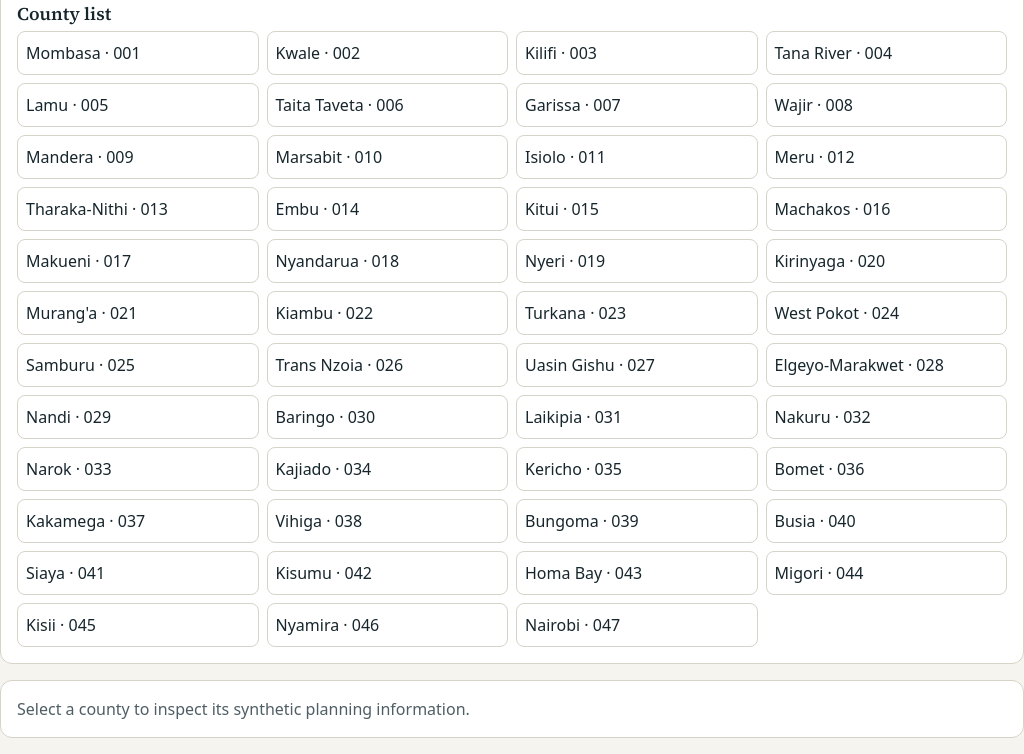
Test: selects a county and identifies planning-only access
(page scrolled)
Click the button "Nairobi · 047": (637, 625) [516, 603, 758, 647]
(page scrolled)
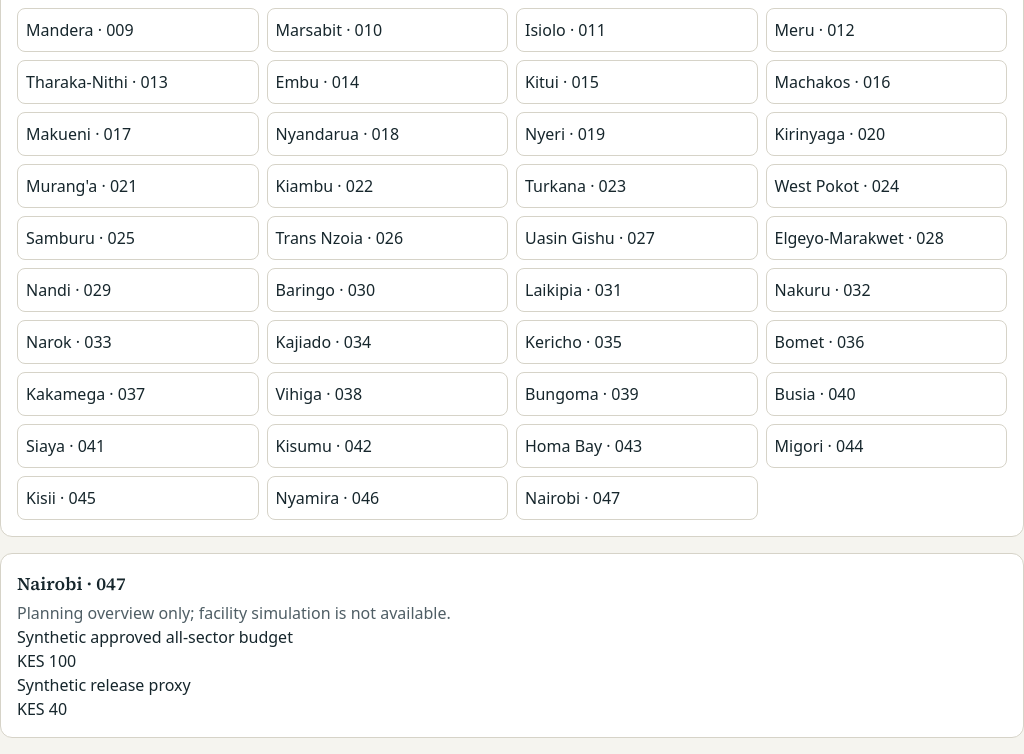
Check: the heading "Nairobi · 047" is shown, box [17, 571, 126, 596]
Check: the text "Planning overview only" is shown, box [17, 602, 451, 624]
Check: the text "KES 100" is shown, box [17, 650, 76, 672]
